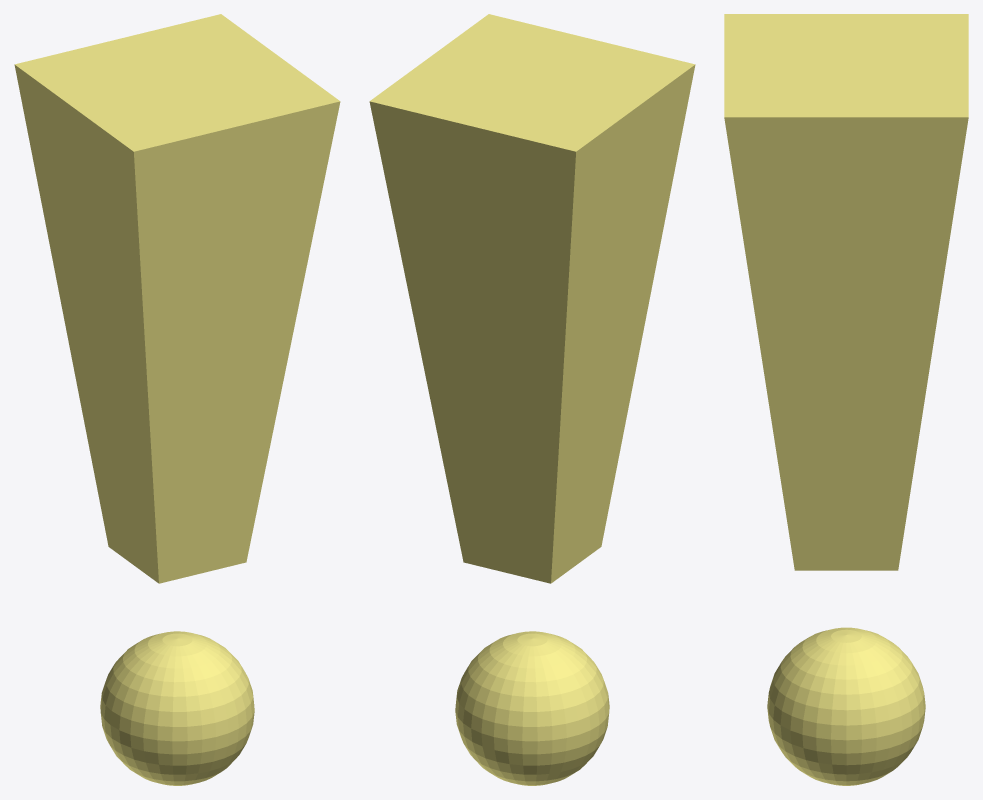
Rendered from IzsaukumZiim.fbx.
3 renders of one model, left to right at view 1: azimuth 30°, elevation 25°; view 2: azimuth 150°, elevation 25°; view 3: azimuth 270°, elevation 25°, orthographic. The views are drawn at different scales.
Visible parts, largest first — view 1: Sphere; view 2: Sphere; view 3: Sphere.
Part boxes in pixels (bbox=[...]): Sphere: bbox=[14, 14, 340, 785]; Sphere: bbox=[369, 14, 695, 785]; Sphere: bbox=[724, 14, 968, 785].
Size of the model in its own units: 89.61 by 288 by 89.61.
